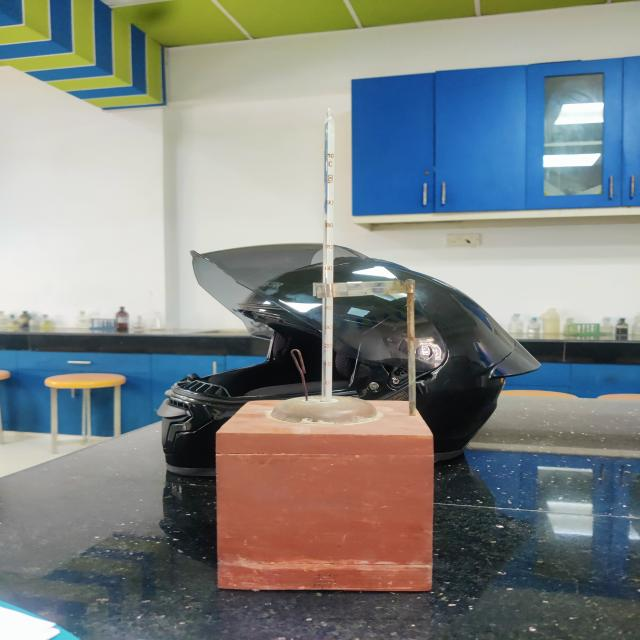Calorimeter: (196, 100, 470, 617)
